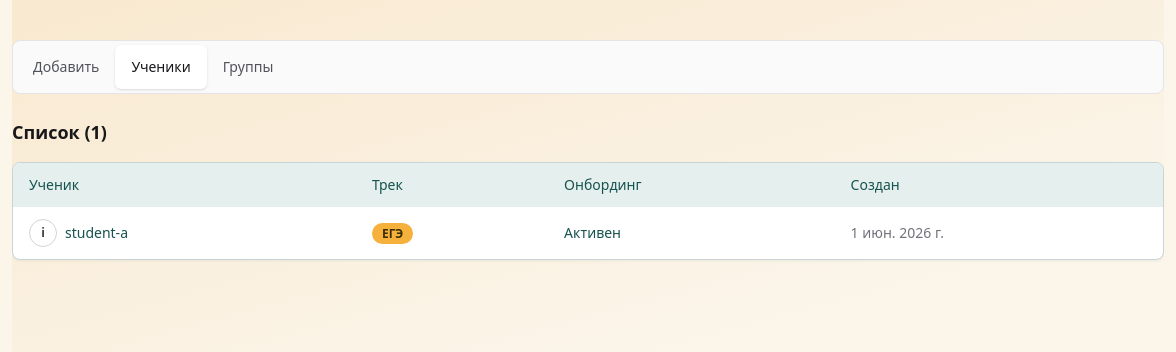
it: StudentsHub › shows groups panel on Группы tab
What coordinates should you click on to do the following:
click the tab "Группы"
I would click on:
 (248, 67)
Its box is [207, 45, 289, 89].
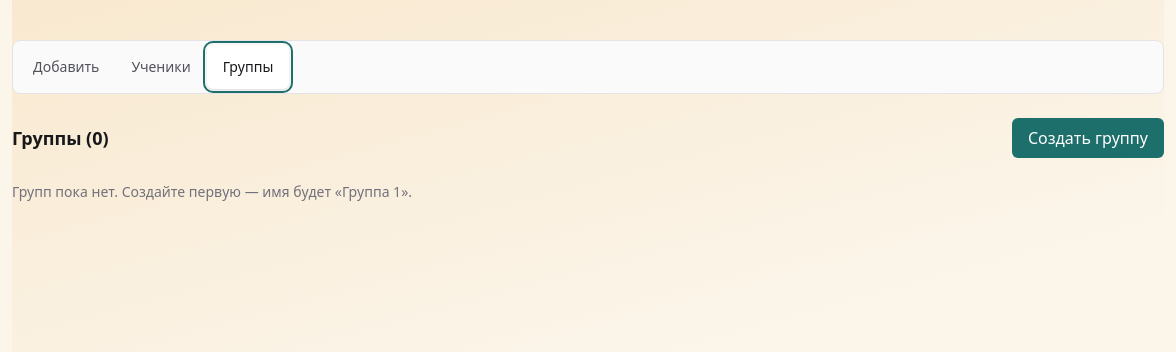
Expected: the button "Создать группу" is shown, [1012, 118, 1164, 158]
